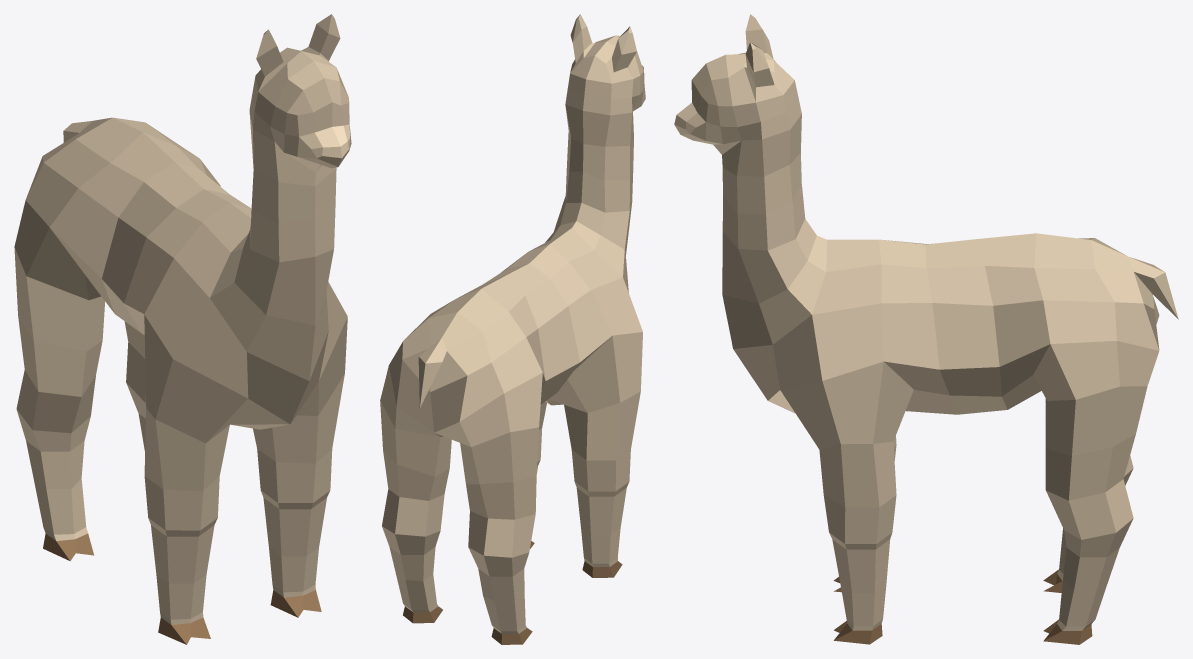
File: alpaca 1.fbx
The picture shows the model from 3 angles, left to right: view 1: azimuth 30°, elevation 25°; view 2: azimuth 150°, elevation 25°; view 3: azimuth 270°, elevation 25°; orthographic projection. The views are drawn at different scales.
Visible parts, largest first — view 1: Alpaca; view 2: Alpaca; view 3: Alpaca.
Part boxes in pixels (x1,y1,x2,y2): Alpaca: (14, 14, 351, 644); Alpaca: (380, 14, 645, 644); Alpaca: (674, 14, 1178, 644).
Size of the model in its own units: 35.03 by 113 by 88.73.
